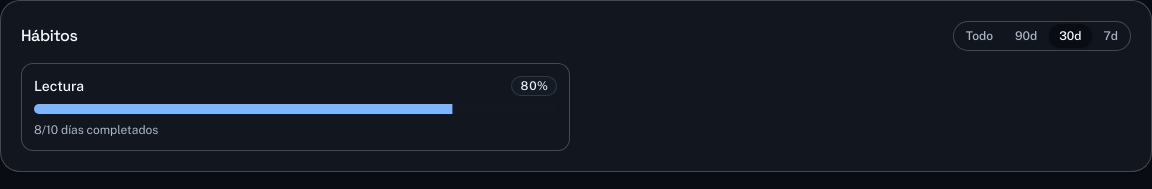
HabitTrendsClient — which habits the range admits › brings it back when the range widens to cover it
The width and height of the screenshot is (1152, 189).
Click the tab "90d" at (1026, 36), box left=1005, top=24, right=1047, bottom=48
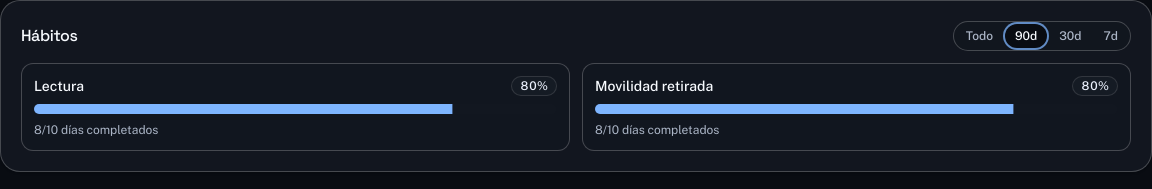
Expected: the text "Movilidad retirada" is shown, left=595, top=76, right=713, bottom=96
